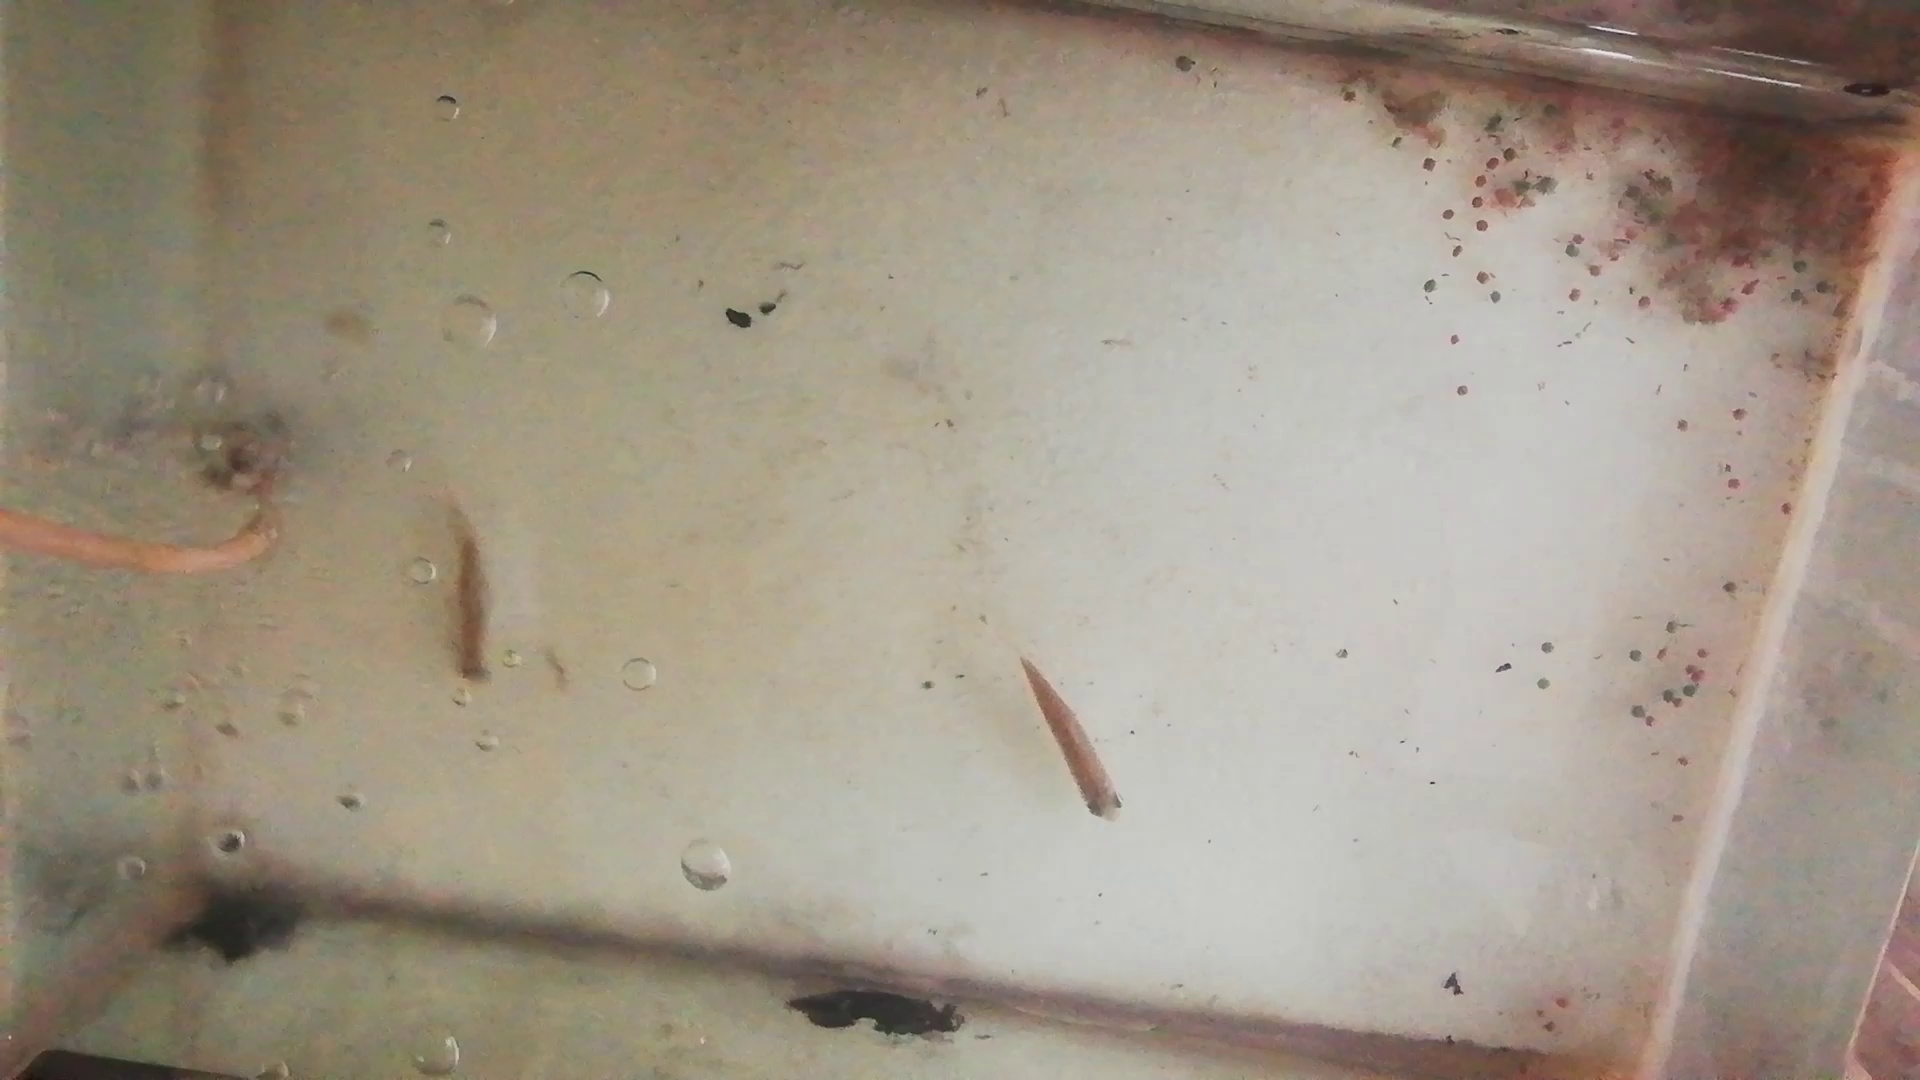fish: (1015, 651, 1124, 822), (448, 497, 497, 686)
